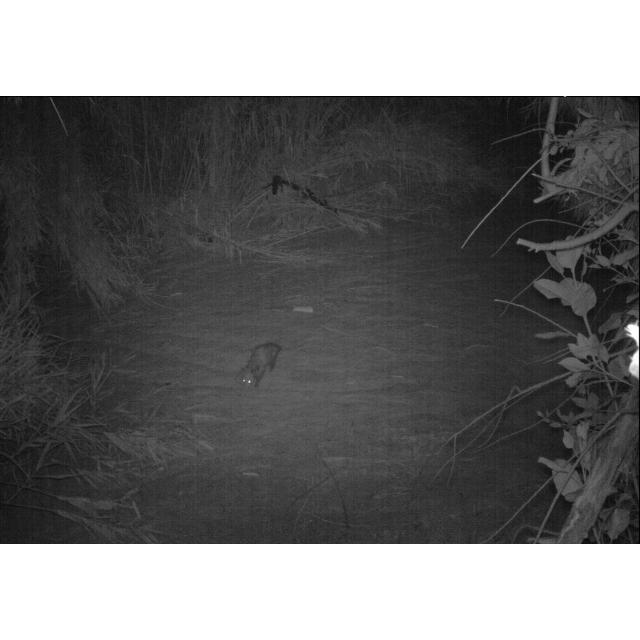animals: (238, 340, 288, 394)
